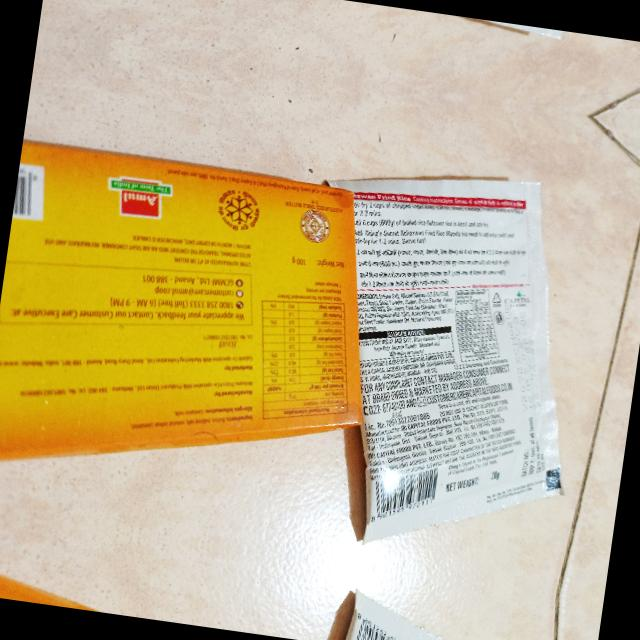Amul Butter: (0, 141, 363, 454)
Ching-s secret schezwan fried masala: (344, 158, 606, 570)
